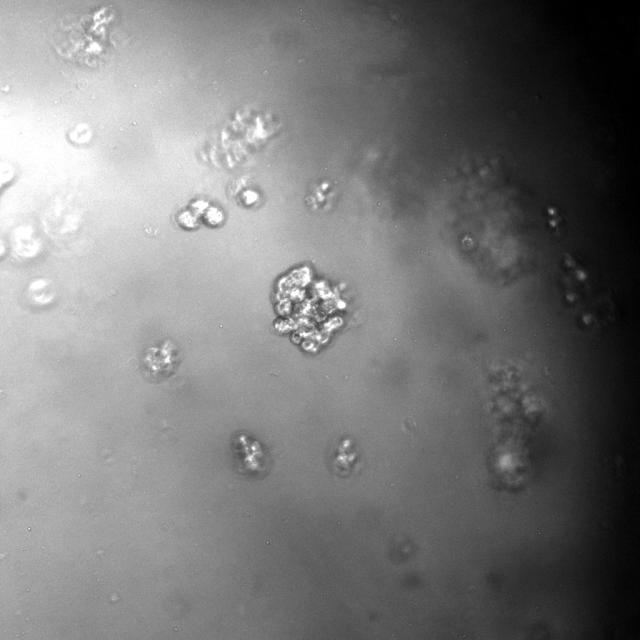organoid: (448, 156, 541, 286), (488, 363, 543, 491), (271, 263, 347, 353), (198, 105, 281, 170), (51, 4, 118, 68), (229, 430, 271, 478), (140, 336, 182, 383), (172, 197, 226, 231), (559, 253, 591, 306), (228, 176, 262, 209), (303, 178, 338, 210), (332, 438, 358, 476), (545, 206, 559, 230)
